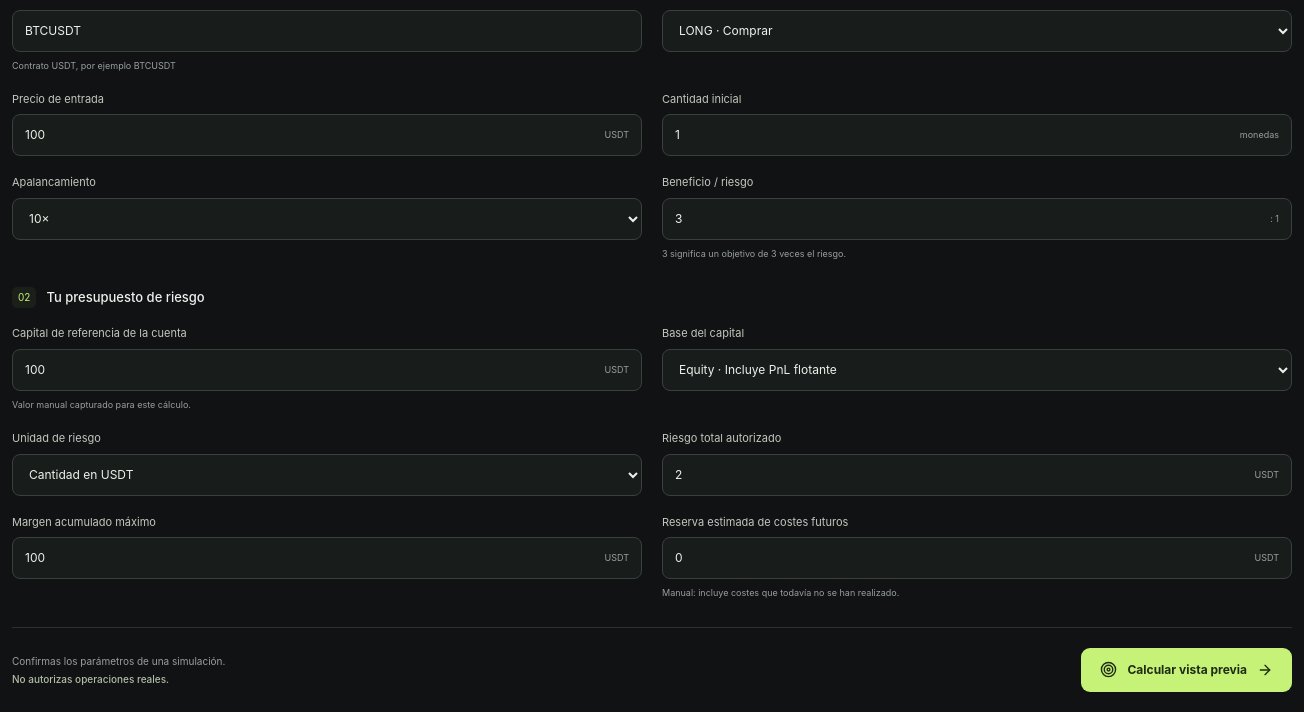
Scenario: planner interaction › accepts a Spanish decimal comma in editable monetary fields
(page scrolled)
Step 1. Replace the text in the field labelled "Riesgo total autorizado" with "1,5" → (977, 475), box [662,454,1292,496]
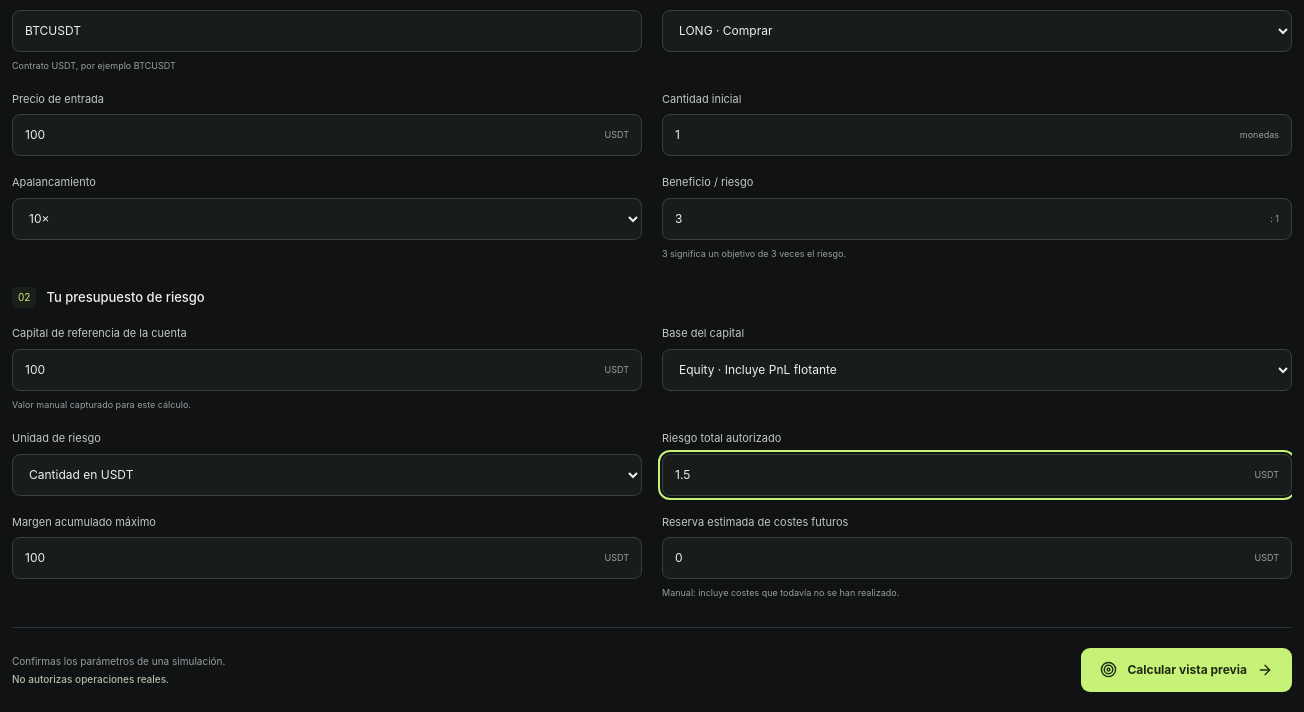
Expected: the field labelled "Riesgo total autorizado" holds "1.5", [662,454,1292,496]
